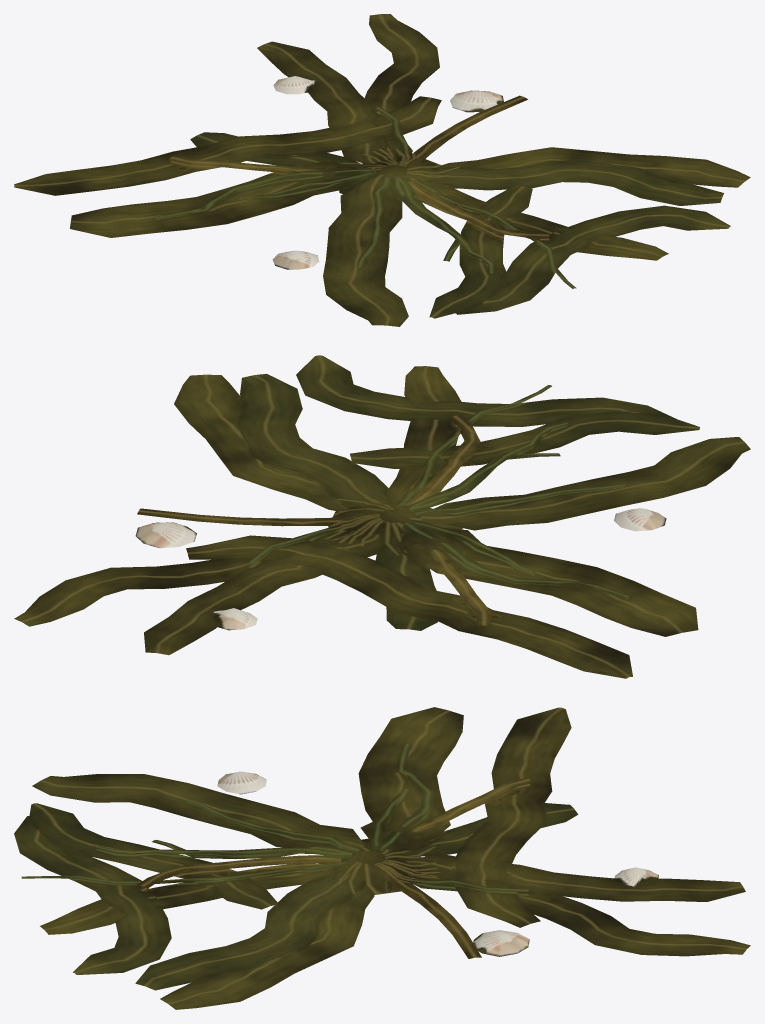
Rendered from decal_seaweed.glb.
The picture shows the model from 3 angles, top to bottom: view 1: azimuth 30°, elevation 25°; view 2: azimuth 150°, elevation 25°; view 3: azimuth 270°, elevation 25°; orthographic projection. The views are drawn at different scales.
Visible parts, largest first — view 1: decal_seaweed; view 2: decal_seaweed; view 3: decal_seaweed.
Boxes of the visible parts, <box> form: decal_seaweed: <box>14,14,750,326</box>; decal_seaweed: <box>14,355,750,678</box>; decal_seaweed: <box>14,707,750,1009</box>.
Bounding box in the file's own units: 1.43 × 0.0257 × 1.47.
Materials: 1 (1 with a texture image).
